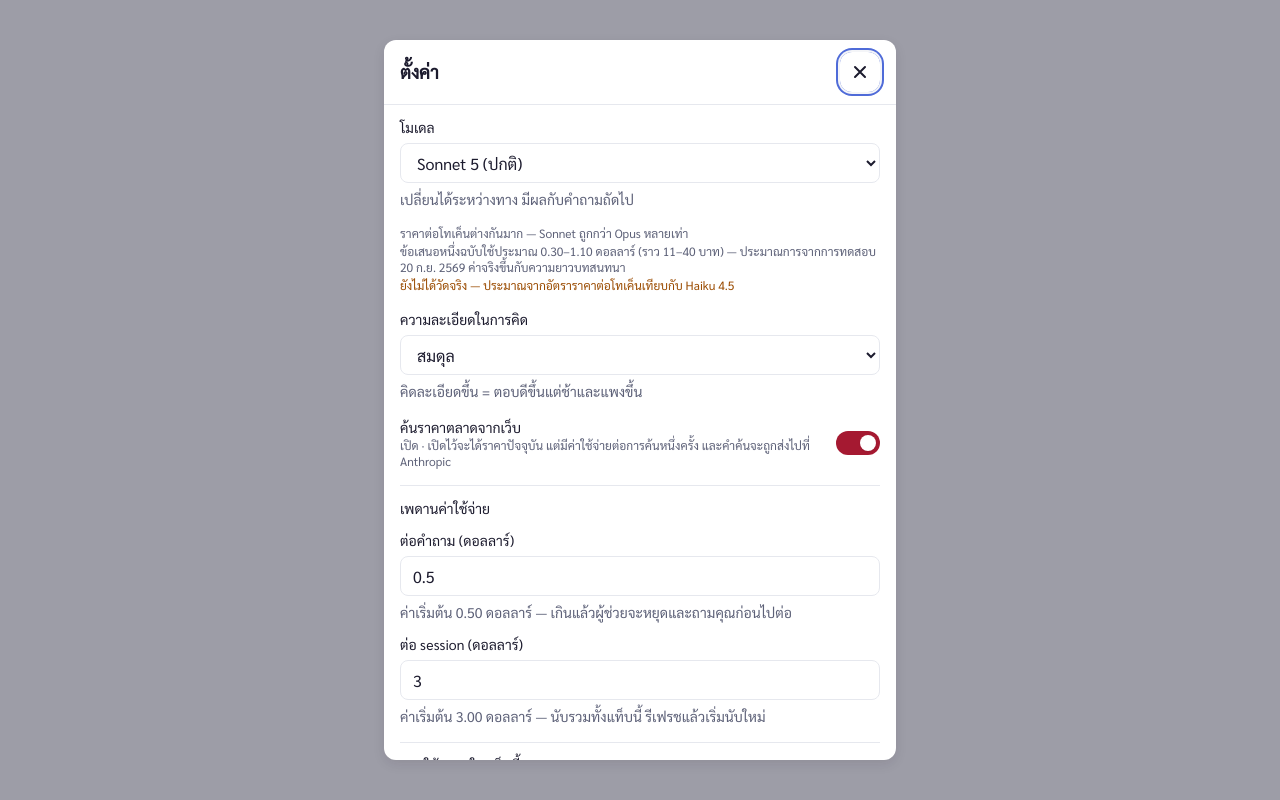
Test: SettingsDialog (06 §4.6) › ใส่เพดานต่อ session เกิน 20 → error และไม่บันทึกค่า
Replace the text in the field labelled "ต่อ session (ดอลลาร์)" with "25" at point(640, 680), box [400,660,880,700]
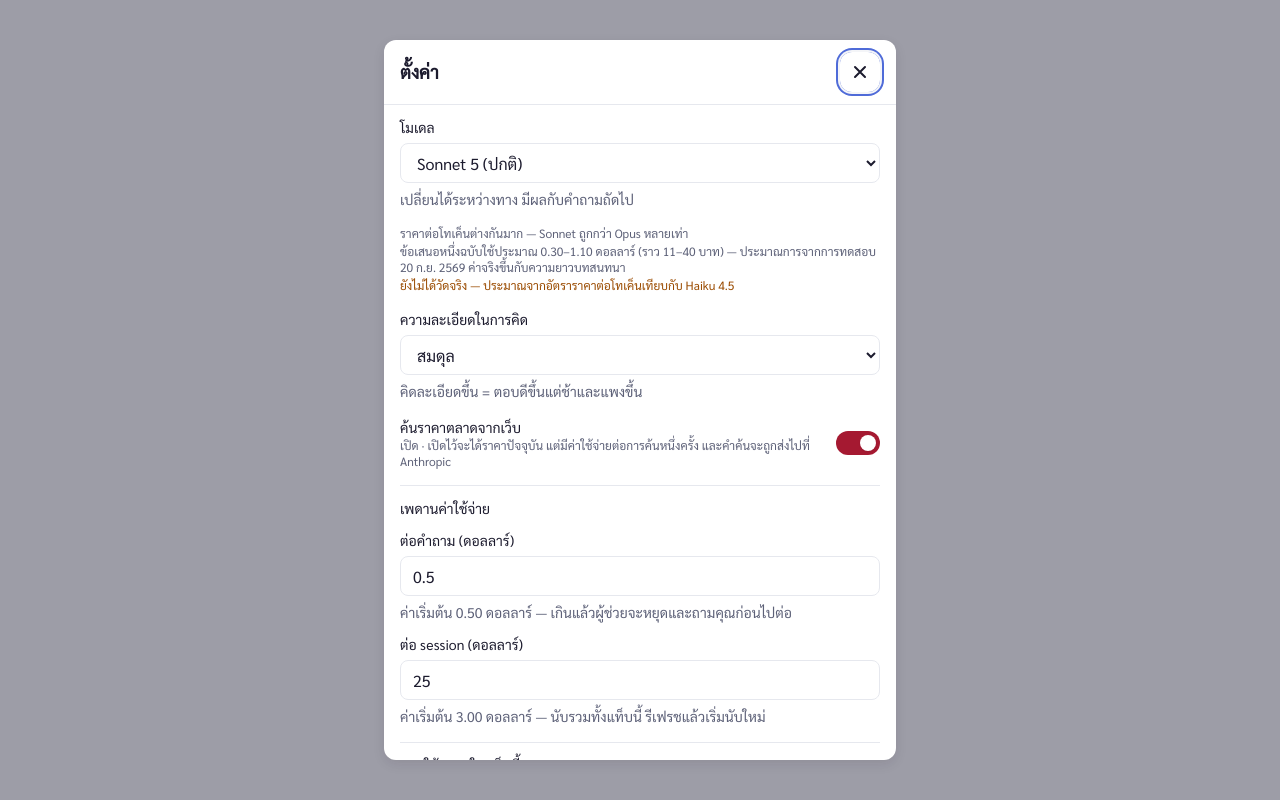
Leave the field labelled "ต่อ session (ดอลลาร์)", box [400,660,880,700]
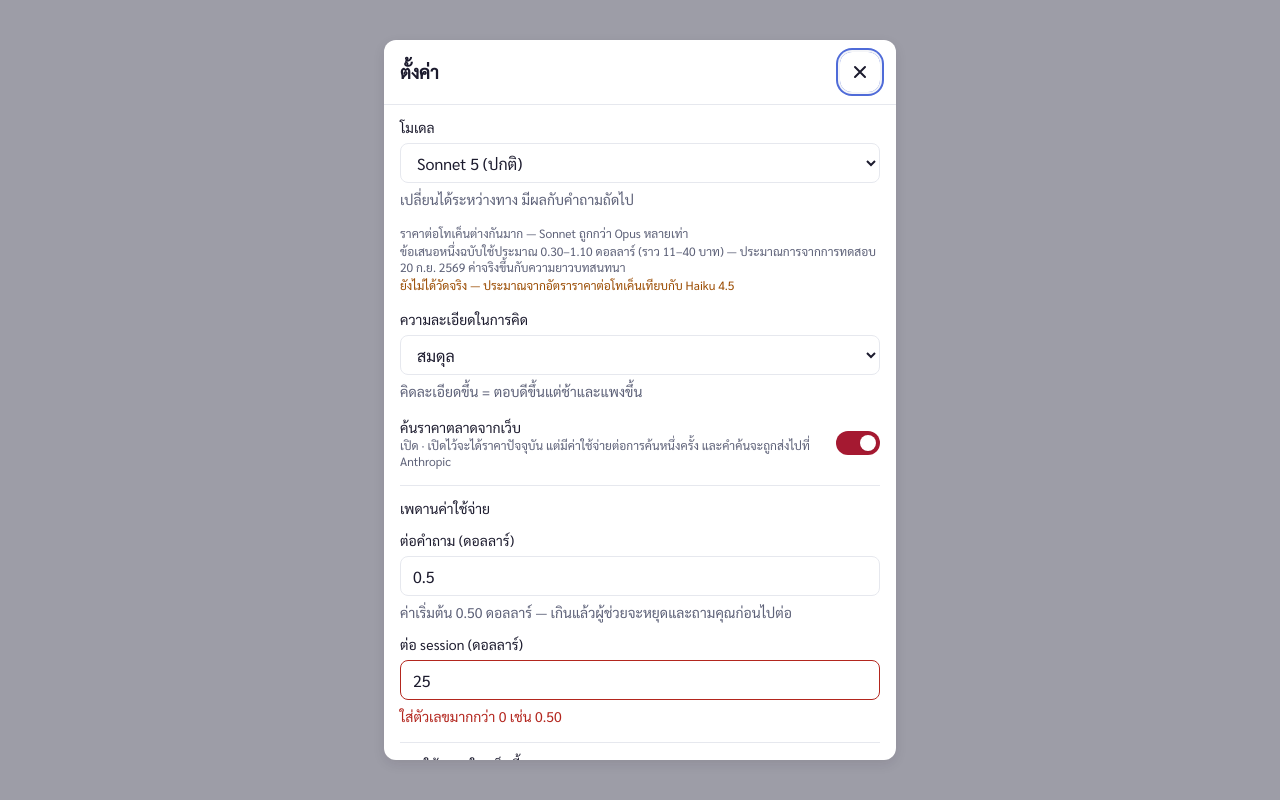
Now the text "ใส่ตัวเลขมากกว่า 0 เช่น 0.50" is shown, box [400,707,562,725]
